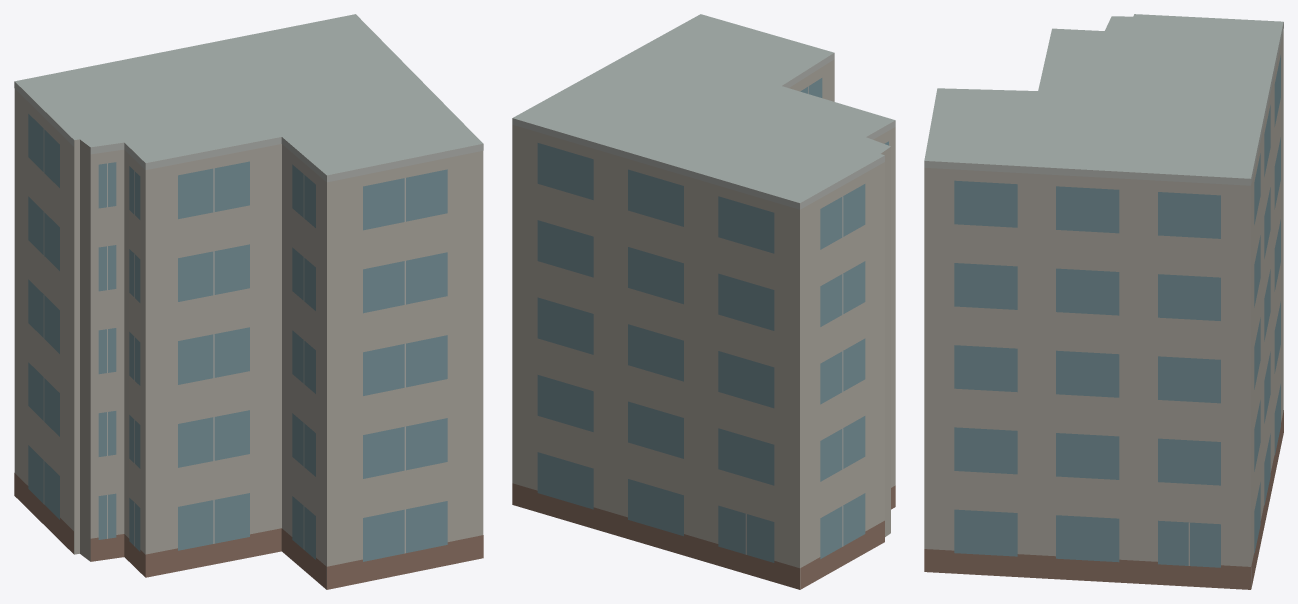
Rendered from survey-upis-32567268.glb.
3 views of the same model, side by side, from view 1: azimuth 30°, elevation 25°; view 2: azimuth 150°, elevation 25°; view 3: azimuth 270°, elevation 25° (orthographic). The views are drawn at different scales.
Parts seen in each view (by area): view 1: survey-upis-32567268.tmp; view 2: survey-upis-32567268.tmp; view 3: survey-upis-32567268.tmp.
Part boxes in pixels (bbox=[...]): survey-upis-32567268.tmp: bbox=[14, 14, 483, 589]; survey-upis-32567268.tmp: bbox=[512, 14, 895, 589]; survey-upis-32567268.tmp: bbox=[924, 14, 1283, 589].
Size of the model in its own units: 12.43 by 14.45 by 11.46.
